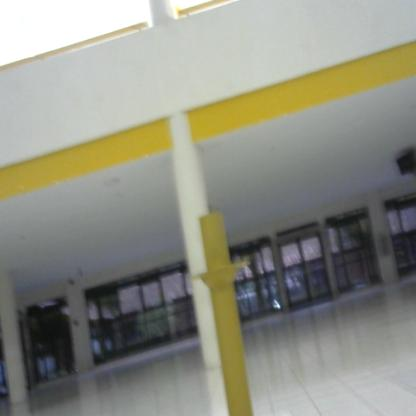pole: (171, 195, 274, 416)
